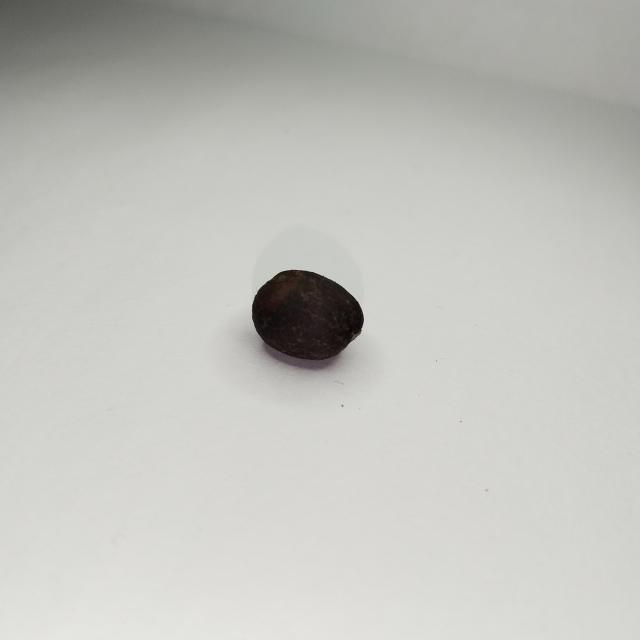Danado: (252, 271, 363, 360)
